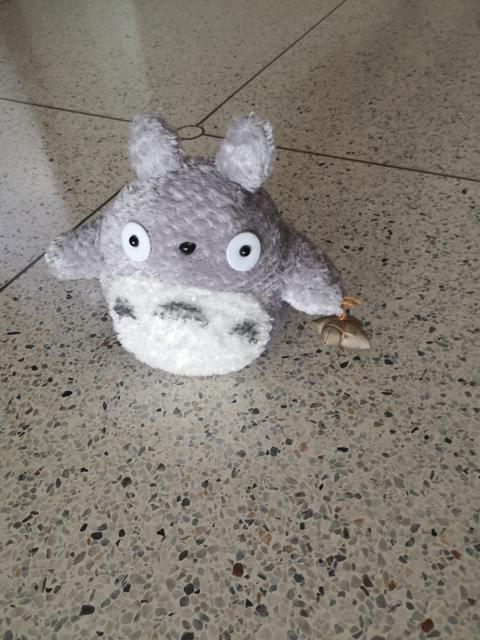totoro: (37, 110, 379, 383)
